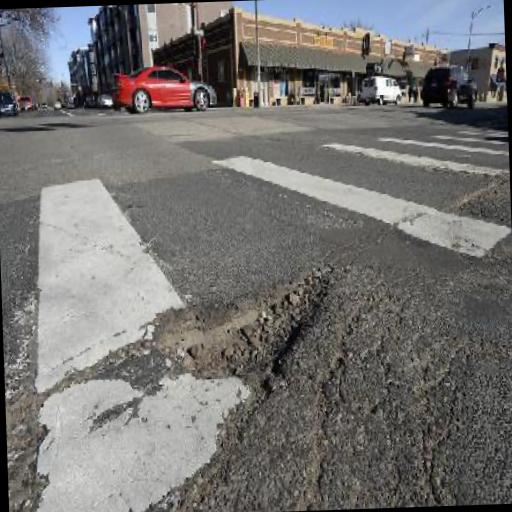pothole: (135, 255, 340, 398)
